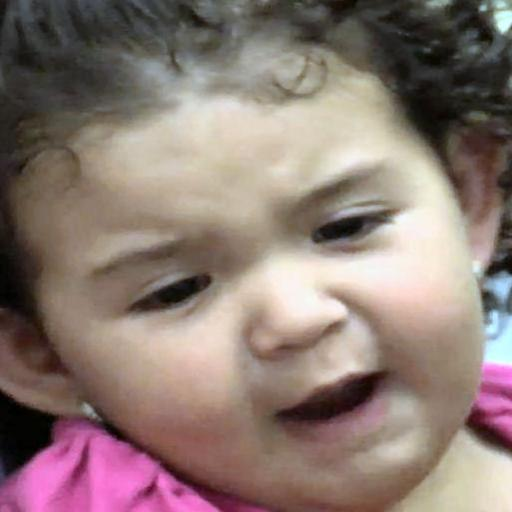Autism: (43, 12, 508, 512)
